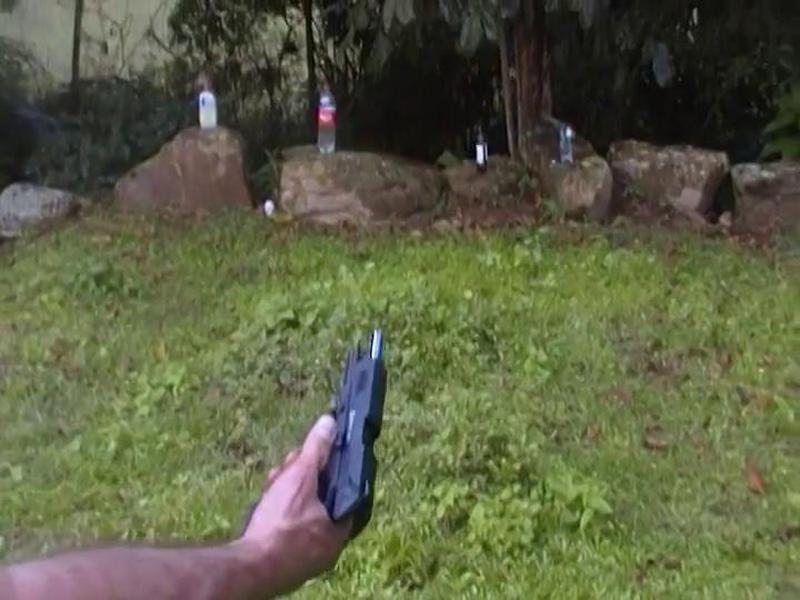Pistola: (270, 326, 409, 556)
